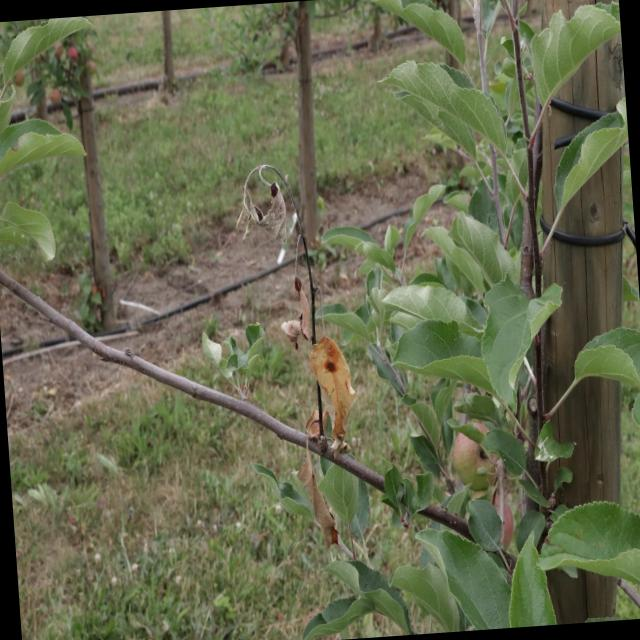-FireBlight-: (238, 169, 355, 443)
